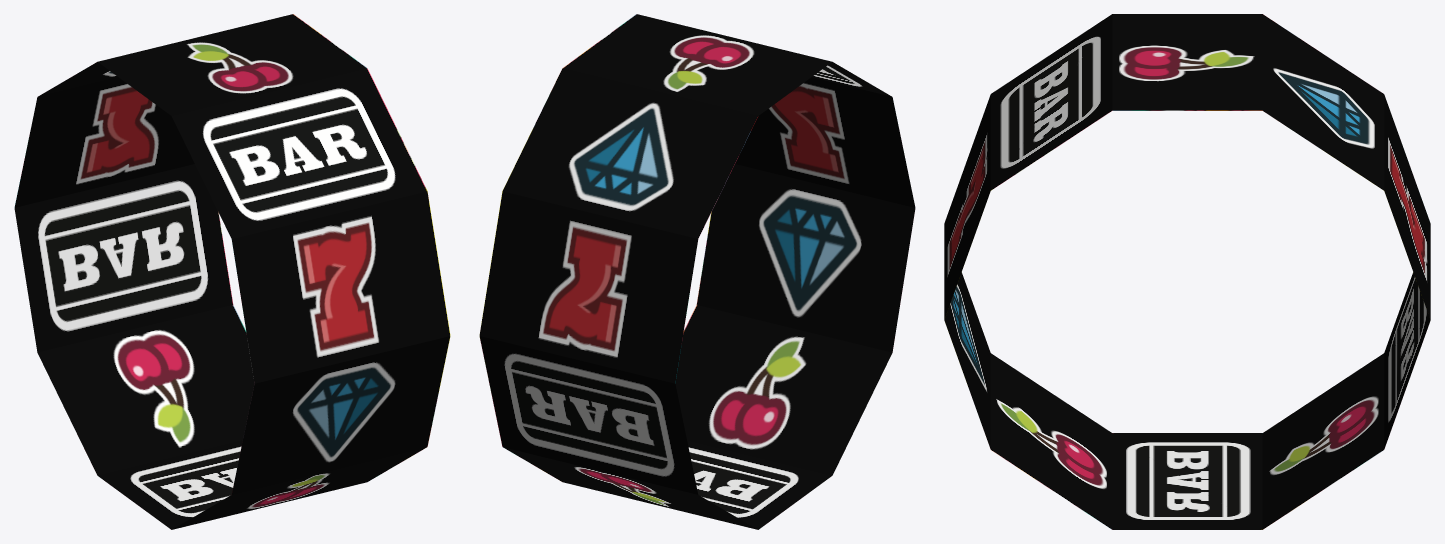
File: slotMachineWheel_4.gltf
3 renders of one model, left to right at view 1: azimuth 30°, elevation 25°; view 2: azimuth 150°, elevation 25°; view 3: azimuth 270°, elevation 25°, orthographic.
Visible parts, largest first — view 1: NewWheel; view 2: NewWheel; view 3: NewWheel.
Boxes of the visible parts, left/top/right/bottom form: NewWheel: left=14, top=14, right=450, bottom=529; NewWheel: left=479, top=14, right=915, bottom=529; NewWheel: left=944, top=14, right=1430, bottom=529.
Bounding box in the file's own units: 0.3289 × 0.6638 × 0.698.
1 material, 1 textured.
